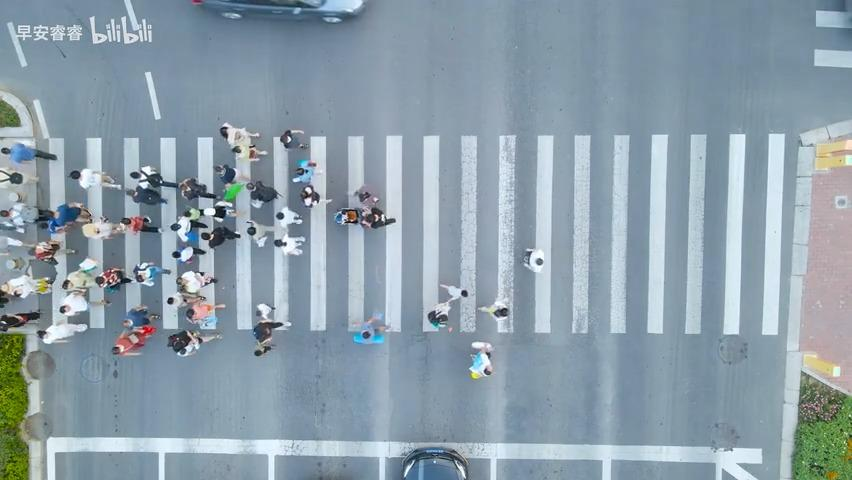Civilian: (111, 303, 160, 355), (37, 319, 100, 351), (38, 198, 95, 231), (219, 121, 267, 160), (427, 283, 468, 328), (251, 302, 283, 356), (166, 329, 222, 357), (240, 217, 278, 254), (270, 229, 309, 263), (345, 317, 389, 347), (32, 242, 79, 270), (117, 210, 161, 239), (173, 269, 223, 294), (133, 254, 172, 286), (68, 168, 122, 191), (1, 142, 57, 164), (244, 179, 282, 211), (173, 173, 212, 204), (54, 295, 97, 323), (130, 164, 178, 189), (197, 227, 249, 250), (514, 238, 546, 274), (124, 186, 168, 212), (79, 216, 123, 242), (165, 213, 203, 243), (90, 267, 135, 292), (271, 199, 305, 230), (468, 341, 495, 379), (61, 268, 100, 294), (165, 240, 202, 267), (212, 159, 249, 185), (252, 319, 283, 346), (297, 180, 327, 207), (351, 182, 381, 209), (360, 206, 395, 228), (427, 300, 452, 327), (476, 301, 509, 320), (291, 159, 317, 183), (439, 283, 468, 304), (279, 129, 309, 149), (470, 341, 494, 357)
